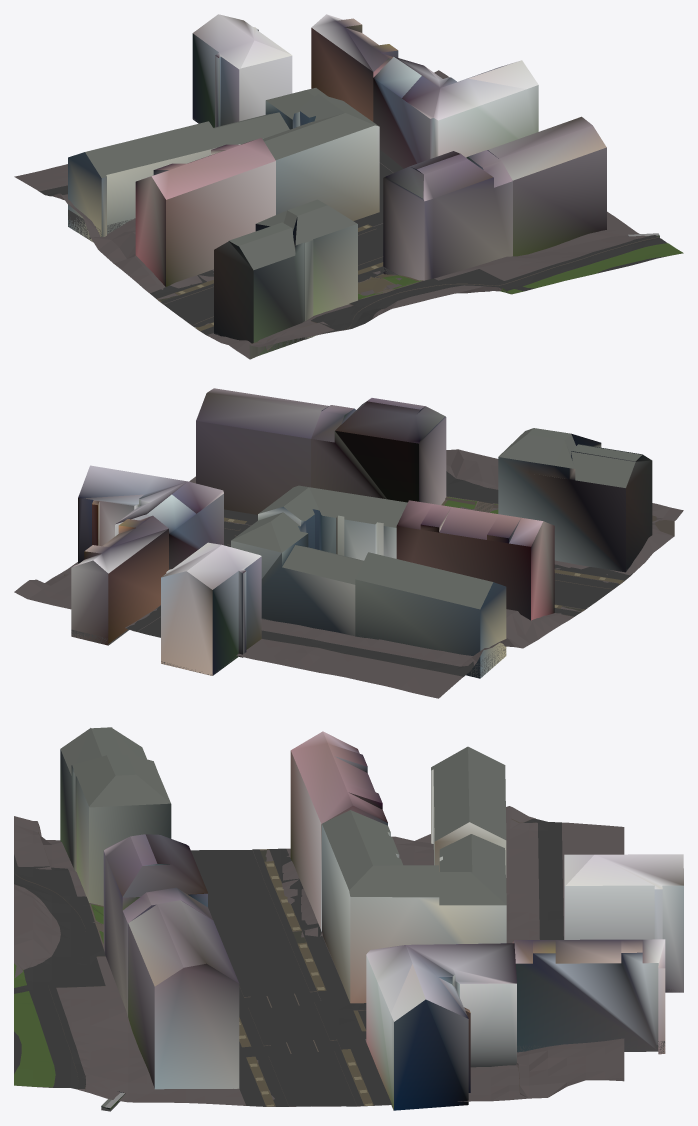
The picture shows the model from 3 angles, top to bottom: view 1: azimuth 30°, elevation 25°; view 2: azimuth 150°, elevation 25°; view 3: azimuth 270°, elevation 25°; orthographic projection. The views are drawn at different scales.
Parts seen in each view (by area): view 1: c_p01_m16; view 2: c_p01_m16; view 3: c_p01_m16.
Boxes of the visible parts, box(x1,y1,x2,y2) form: c_p01_m16: box(14, 14, 683, 359); c_p01_m16: box(14, 388, 683, 698); c_p01_m16: box(14, 727, 683, 1111).
Size of the model in its own units: 132 by 33.38 by 141.
